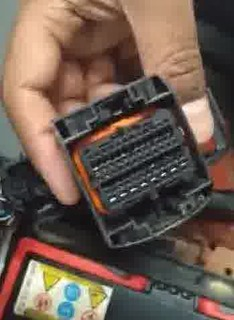connector: (51, 74, 213, 249)
